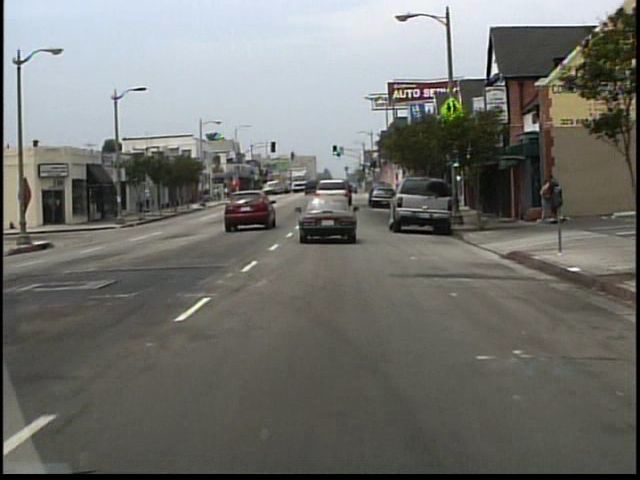person: (547, 175, 561, 223), (538, 178, 552, 225), (143, 188, 154, 214)
